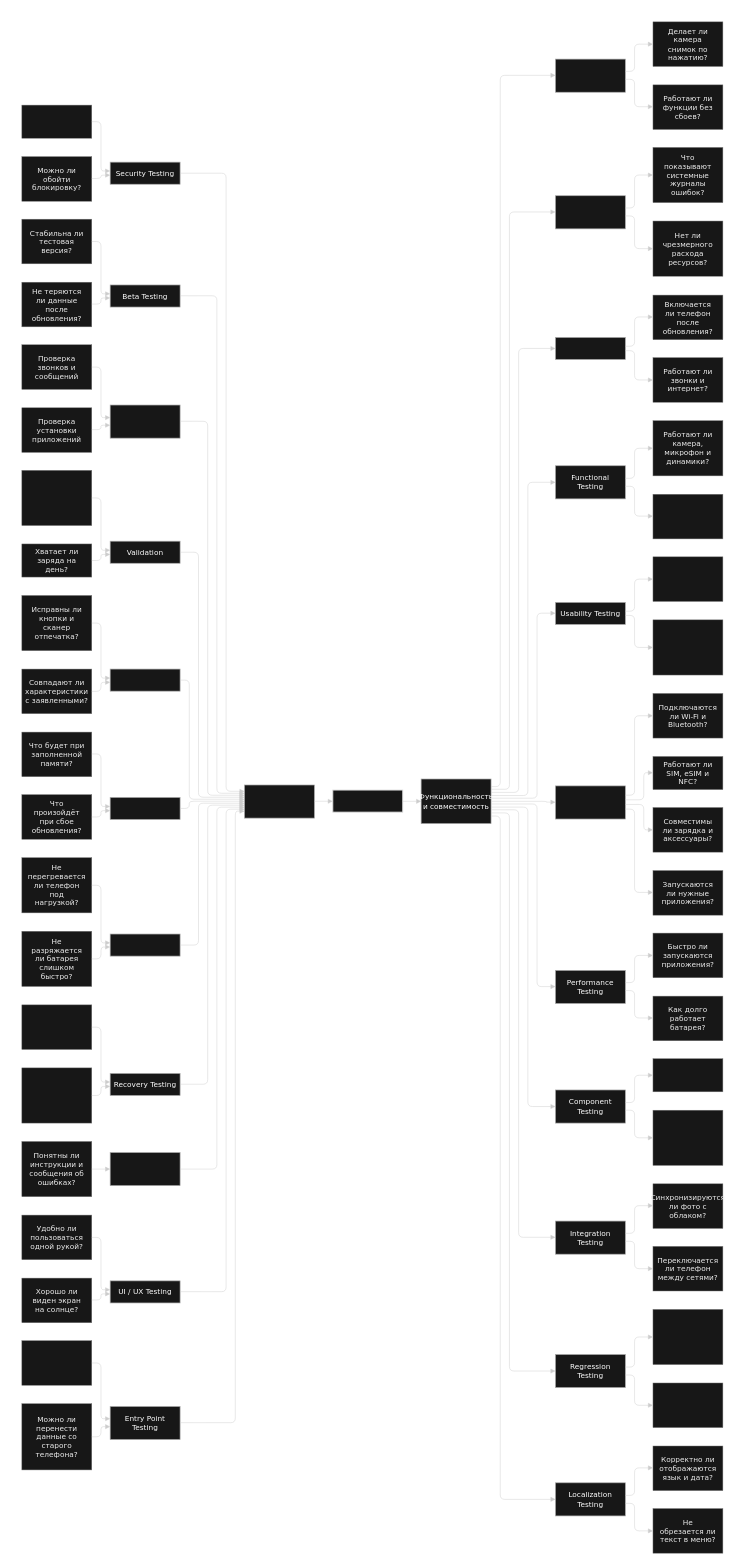
Some shapes in this 733 by 1563 pixel diagram are drawn without their labels. The shapes that lost their labels are listed below. From the top down, each one's centre as x and y in pixels, then its label:
the point at 591,76: Black Box Testing
the point at 57,122: Защищены ли данные?
the point at 591,213: White / Grey Box
the point at 591,349: Smoke & Sanity
the point at 146,422: Automated Testing
the point at 57,498: Работает ли телефон на морозе и в жару?
the point at 689,517: Сохраняются ли фото и контакты?
the point at 689,579: Удобно ли разблокировать экран?
the point at 689,648: Не мешают ли уведомления и системные звуки?
the point at 146,681: Verification
the point at 146,809: Negative Testing
the point at 280,802: Характеристики и надёжность
the point at 368,801: Смартфон
the point at 591,803: Compatibility Testing
the point at 146,945: Stress Testing
the point at 57,1027: Восстанавливается ли телефон после сбоя?
the point at 57,1096: Можно ли вернуть резервную копию?
the point at 689,1076: Исправны ли экран и сенсор?
the point at 689,1138: Работают ли камеры и разъём зарядки?
the point at 146,1170: Documentation Testing
the point at 689,1337: Не сломались ли функции после обновления?
the point at 57,1363: Проходит ли первичная настройка?
the point at 689,1406: Запускаются ли прежние приложения?
